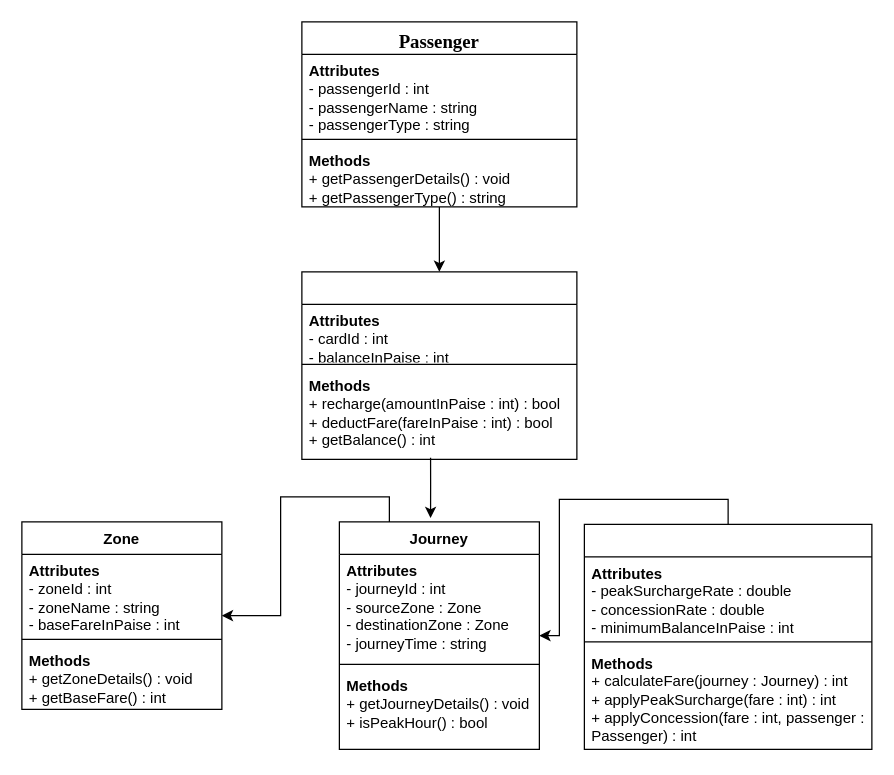
Some shapes in this 894 by 775 pixel diagram are drawn without their labels. The shapes that lost their labels are listed below. From the top down, each one's box as (x1, y1, x2, y2) in pixels, then its label:
(301, 271, 577, 459): SmartCard.
(583, 523, 872, 749): FairTable
